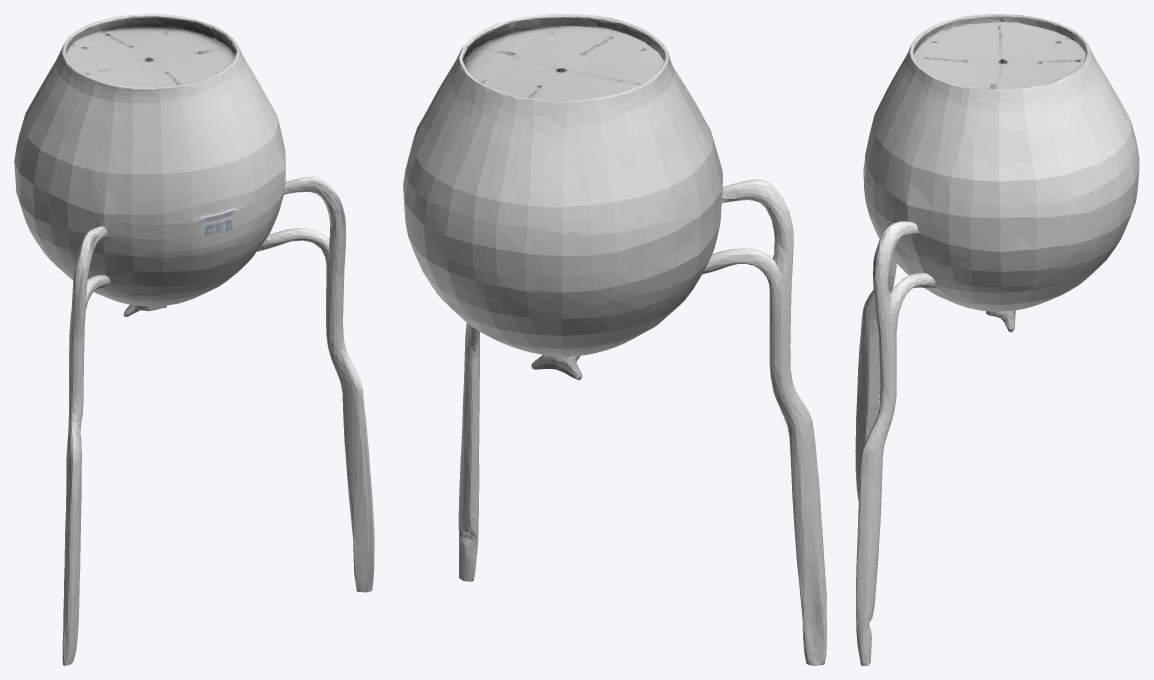
The model's file is 020ae970-3fe5-4001-b9be-efb11dc08ffd.glb.
The picture shows the model from 3 angles, left to right: view 1: azimuth 30°, elevation 25°; view 2: azimuth 150°, elevation 25°; view 3: azimuth 270°, elevation 25°; orthographic projection. The views are drawn at different scales.
Parts seen in each view (by area): view 1: world; view 2: world; view 3: world.
Boxes of the visible parts, x1,y1,x2,y2 form: world: [14, 14, 374, 665]; world: [403, 14, 826, 665]; world: [855, 14, 1139, 665].
Bounding box in the file's own units: 0.5959 × 0.9682 × 0.4625.
Materials: 1 (1 with a texture image).
